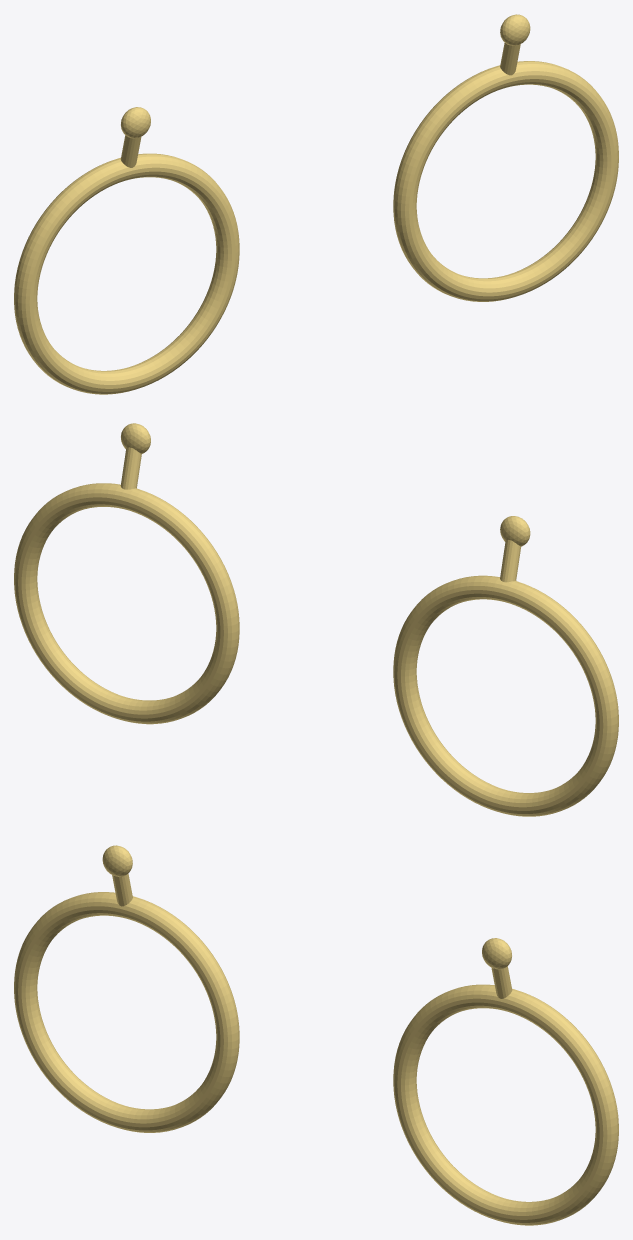
File: w25-smooth-gold-hoops.glb
3 renders of one model, top to bottom at view 1: azimuth 30°, elevation 25°; view 2: azimuth 150°, elevation 25°; view 3: azimuth 330°, elevation 25°, orthographic.
Parts seen in each view (by area): view 1: hoop_-0.24, hoop_0.24, clasp_0.24, clasp_-0.24; view 2: hoop_-0.24, hoop_0.24, clasp_-0.24, clasp_0.24, post_-0.24, post_0.24; view 3: hoop_0.24, hoop_-0.24, clasp_-0.24, clasp_0.24.
Boxes of the visible parts, <box> form: hoop_-0.24: <box>14,153,239,394</box>; hoop_0.24: <box>393,61,618,301</box>; clasp_0.24: <box>500,14,530,45</box>; clasp_-0.24: <box>121,107,150,138</box>; hoop_-0.24: <box>393,575,618,816</box>; hoop_0.24: <box>14,483,239,724</box>; clasp_-0.24: <box>500,516,530,546</box>; clasp_0.24: <box>121,423,150,453</box>; post_-0.24: <box>500,539,520,582</box>; post_0.24: <box>120,447,141,489</box>; hoop_0.24: <box>393,984,618,1225</box>; hoop_-0.24: <box>14,892,239,1132</box>; clasp_-0.24: <box>102,845,132,876</box>; clasp_0.24: <box>482,938,511,969</box>.
Size of the model in its own units: 0.762 by 0.35 by 0.0448.
